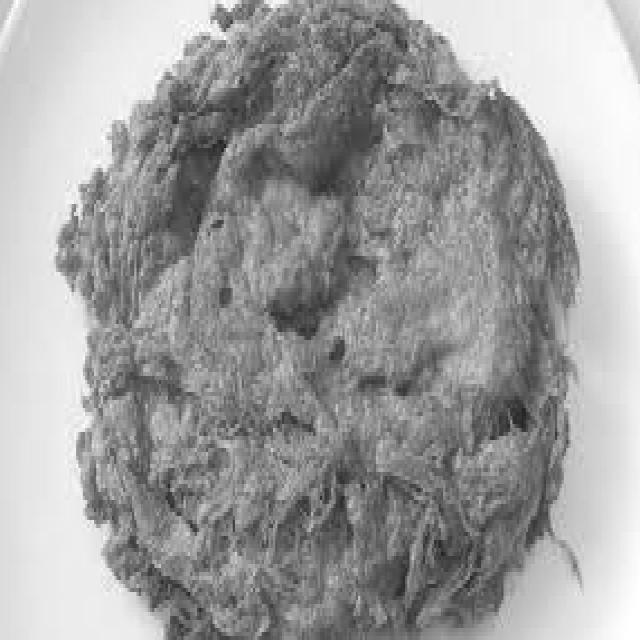telur_dadar: (63, 0, 575, 640)
